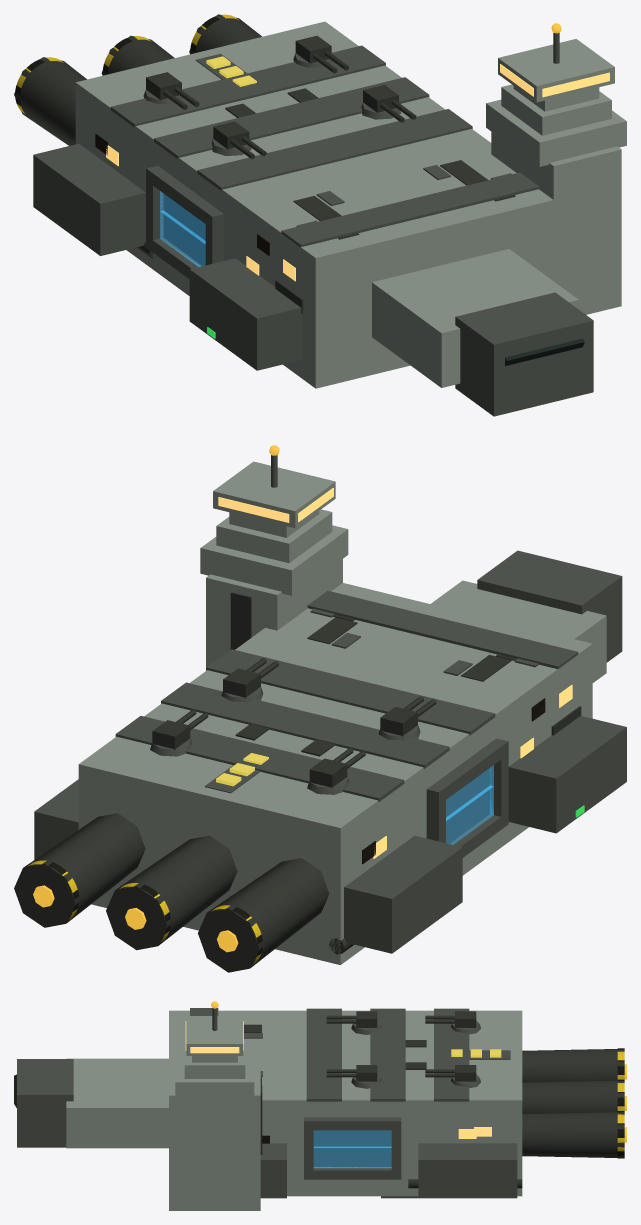
Rendered from capital-s(2).glb.
3 renders of one model, top to bottom at view 1: azimuth 30°, elevation 25°; view 2: azimuth 150°, elevation 25°; view 3: azimuth 270°, elevation 25°, orthographic. The views are drawn at different scales.
Parts seen in each view (by area): view 1: hullMain, hullNose, hullNoseTip, outriggerPylon, sidePod1L, sidePod0L, engineHousing (×3), hullPanelLine0, hullPanelLine2, accentStripe, hullPanelLine1, controlTerrace0 (+15 smaller); view 2: hullMain, engineHousing (×3), sidePod1L, sidePod0L, hullPanelLine1, hullNoseTip, hullPanelLine0, accentStripe, hullPanelLine2, outriggerPylon, hullNose, controlTerrace0 (+13 smaller); view 3: hullMain, engineHousing (×3), outriggerPylon, hullNose, sidePod1R, hullNoseTip, hullPanelLine0, hullPanelLine1, dockingChamberStarboard, hullPanelLine2, controlTerrace0, observationGallery (+11 smaller).
Part boxes in pixels (x1=…): hullMain: x1=75, y1=21, x2=565, y2=388; hullNose: x1=372, y1=249, x2=578, y2=387; hullNoseTip: x1=455, y1=292, x2=593, y2=416; outriggerPylon: x1=491, y1=132, x2=621, y2=314; sidePod1L: x1=33, y1=143, x2=145, y2=255; sidePod0L: x1=189, y1=258, x2=302, y2=370; engineHousing (×3): x1=14, y1=14, x2=262, y2=145; hullPanelLine0: x1=197, y1=109, x2=472, y2=190; hullPanelLine2: x1=110, y1=45, x2=385, y2=127; accentStripe: x1=281, y1=172, x2=539, y2=247; hullPanelLine1: x1=154, y1=77, x2=429, y2=159; controlTerrace0: x1=486, y1=99, x2=626, y2=166; hullMain: x1=78, y1=583, x2=592, y2=964; engineHousing (×3): x1=14, y1=813, x2=329, y2=972; sidePod1L: x1=344, y1=835, x2=462, y2=953; sidePod0L: x1=508, y1=716, x2=626, y2=833; hullPanelLine1: x1=161, y1=682, x2=449, y2=768; hullNoseTip: x1=477, y1=550, x2=622, y2=662; hullPanelLine0: x1=206, y1=649, x2=495, y2=735; accentStripe: x1=307, y1=591, x2=578, y2=668; hullPanelLine2: x1=115, y1=716, x2=404, y2=801; outriggerPylon: x1=206, y1=559, x2=342, y2=670; hullNose: x1=430, y1=580, x2=606, y2=682; controlTerrace0: x1=200, y1=525, x2=348, y2=595; hullMain: x1=169, y1=1010, x2=522, y2=1196; engineHousing (×3): x1=522, y1=1049, x2=624, y2=1158; outriggerPylon: x1=169, y1=1071, x2=260, y2=1210; hullNose: x1=66, y1=1058, x2=168, y2=1148; sidePod1R: x1=418, y1=1143, x2=517, y2=1198; hullNoseTip: x1=17, y1=1059, x2=73, y2=1147; hullPanelLine0: x1=306, y1=1008, x2=341, y2=1101; hullPanelLine1: x1=370, y1=1008, x2=405, y2=1101; dockingChamberStarboard: x1=313, y1=1130, x2=391, y2=1166; hullPanelLine2: x1=434, y1=1008, x2=469, y2=1101; controlTerrace0: x1=175, y1=1051, x2=254, y2=1100; observationGallery: x1=186, y1=1016, x2=243, y2=1055.
Size of the model in its own units: 4.36 by 3.58 by 8.68.
